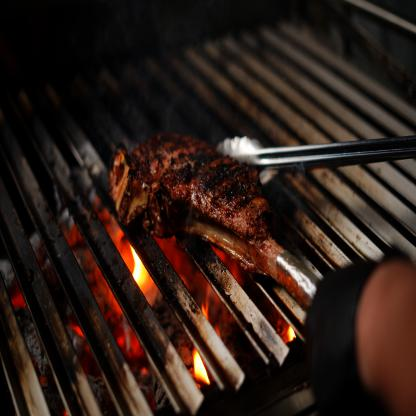Carne: (125, 130, 279, 220)
